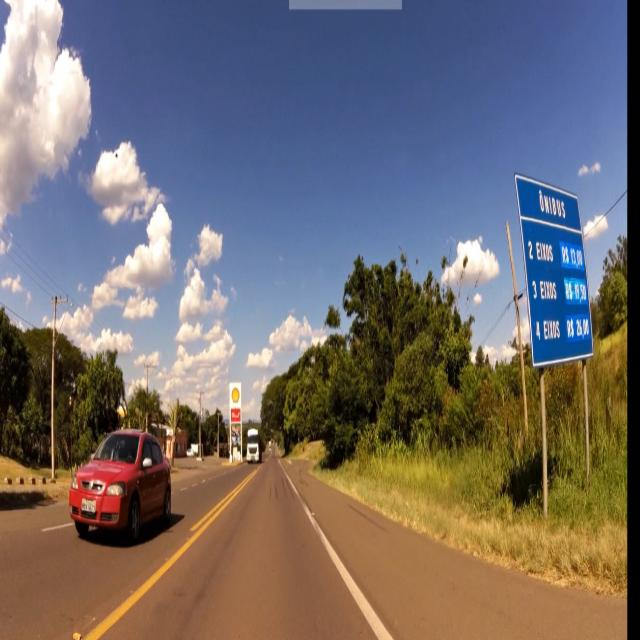LOC-6: (517, 166, 597, 370)
